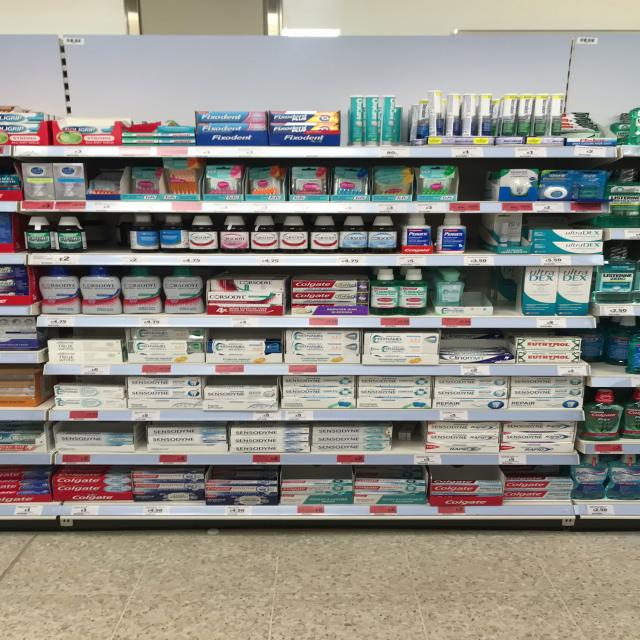void: (462, 160, 500, 213), (588, 331, 620, 387), (89, 214, 125, 263), (497, 266, 524, 328), (468, 267, 496, 326), (402, 98, 427, 157)
